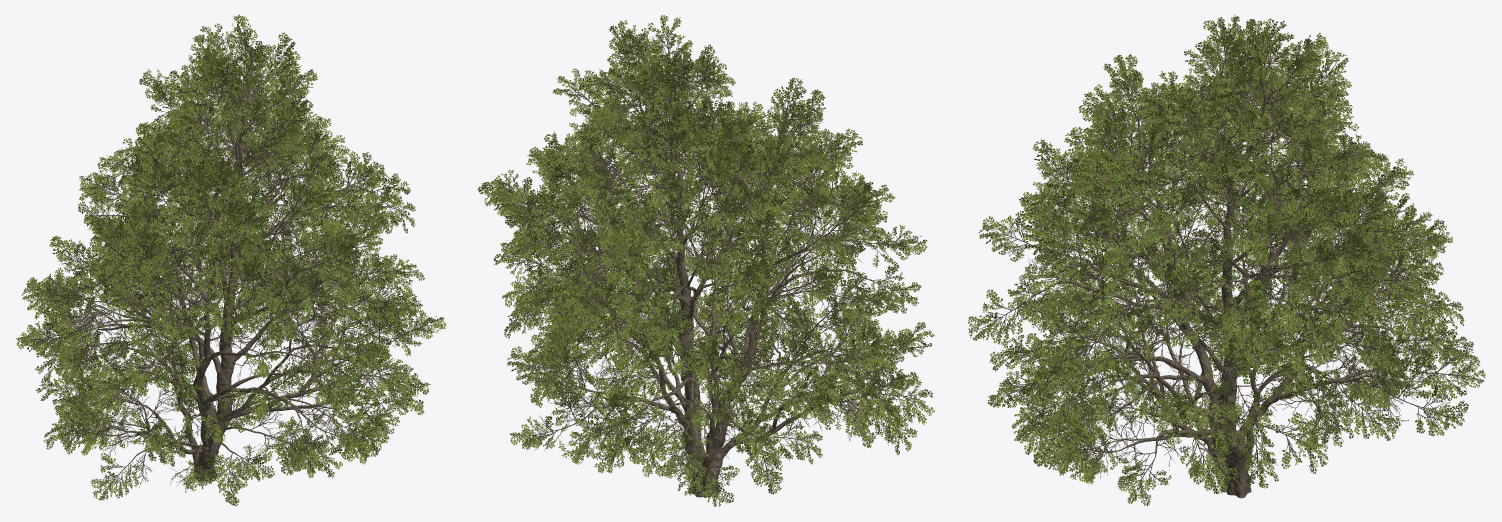
The model's file is SM_BlackAlder_Field_02.gltf.
3 renders of one model, left to right at view 1: azimuth 30°, elevation 25°; view 2: azimuth 150°, elevation 25°; view 3: azimuth 270°, elevation 25°, orthographic. The views are drawn at different scales.
Parts seen in each view (by area): view 1: SM_BlackAlder_Field_02; view 2: SM_BlackAlder_Field_02; view 3: SM_BlackAlder_Field_02.
Boxes of the visible parts, x1=… form: SM_BlackAlder_Field_02: x1=16, y1=15, x2=446, y2=506; SM_BlackAlder_Field_02: x1=477, y1=15, x2=934, y2=506; SM_BlackAlder_Field_02: x1=968, y1=15, x2=1485, y2=505.
Size of the model in its own units: 16.37 by 17.2 by 16.26.
Materials: 3 (3 with a texture image).
